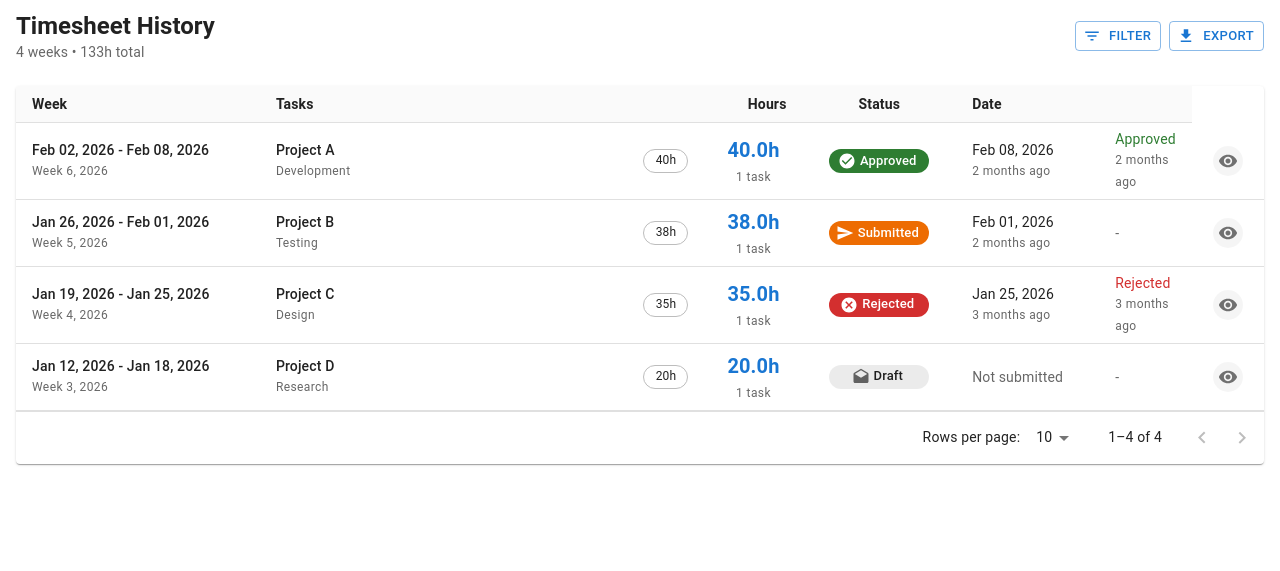
it: TimesheetHistory › Filter panel › status filter narrows displayed timesheets
The width and height of the screenshot is (1280, 571).
Open filter panel
Click the button with test id "ts-history-filter-toggle": (1118, 36) [1075, 21, 1161, 51]
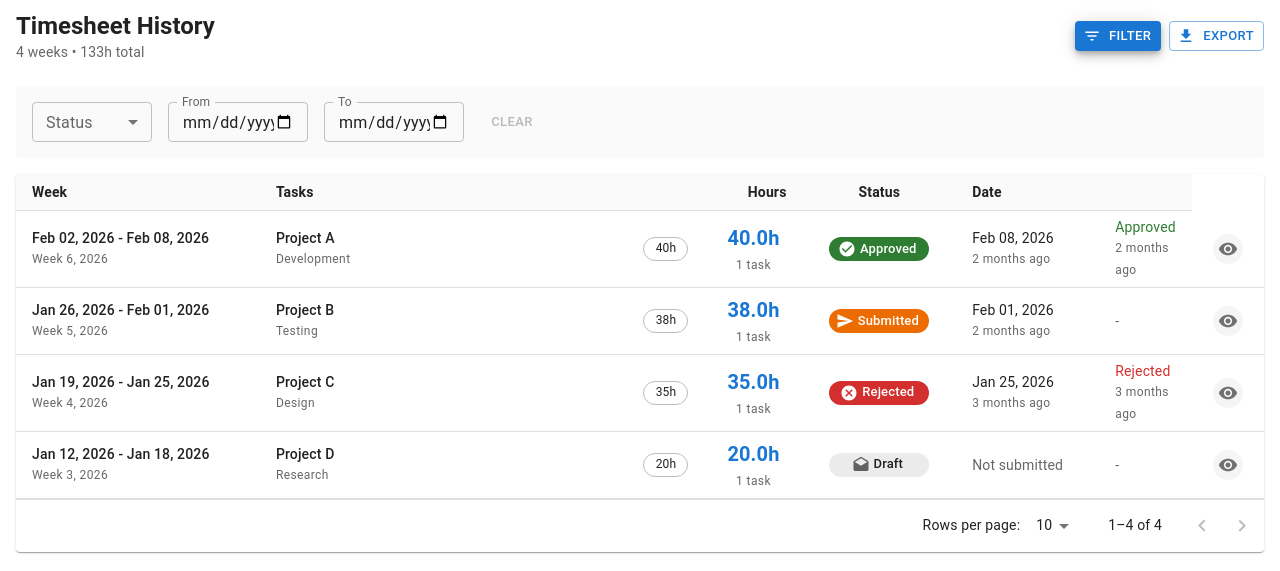
Now the element with test id "ts-history-status-select" is shown
Use MUI Select: click to open, then pick an option
Press the mouse on the 1st dropdown: (92, 122) [32, 102, 152, 142]
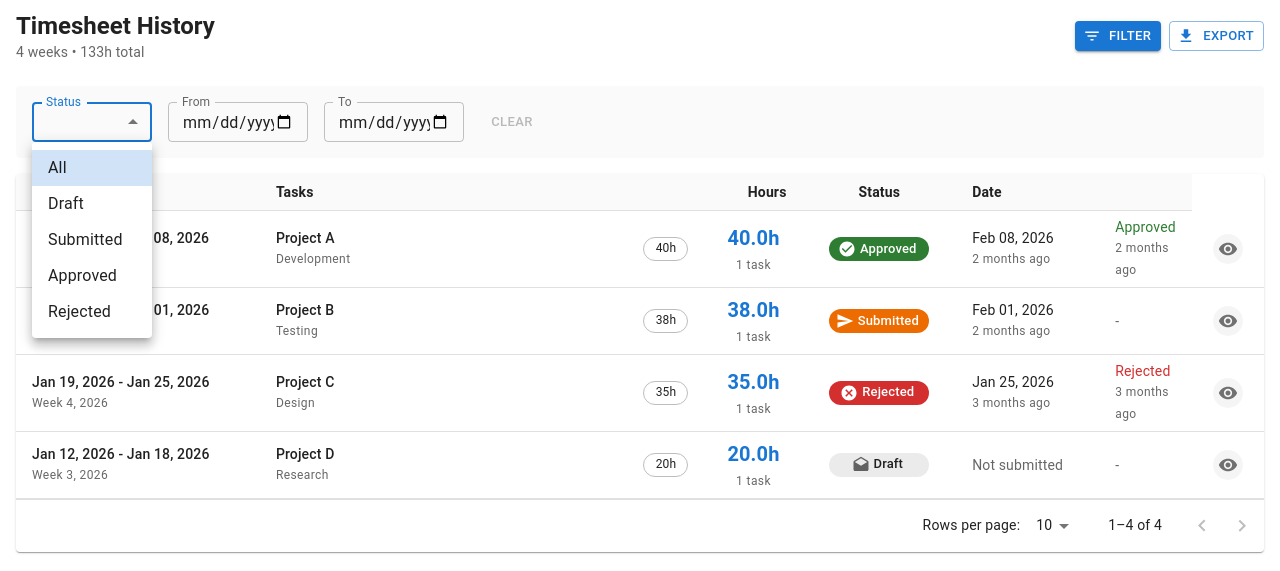
Now the list is shown, box [32, 142, 152, 338]
Select "Approved"
Click the option "Approved": (82, 276) [48, 266, 117, 285]
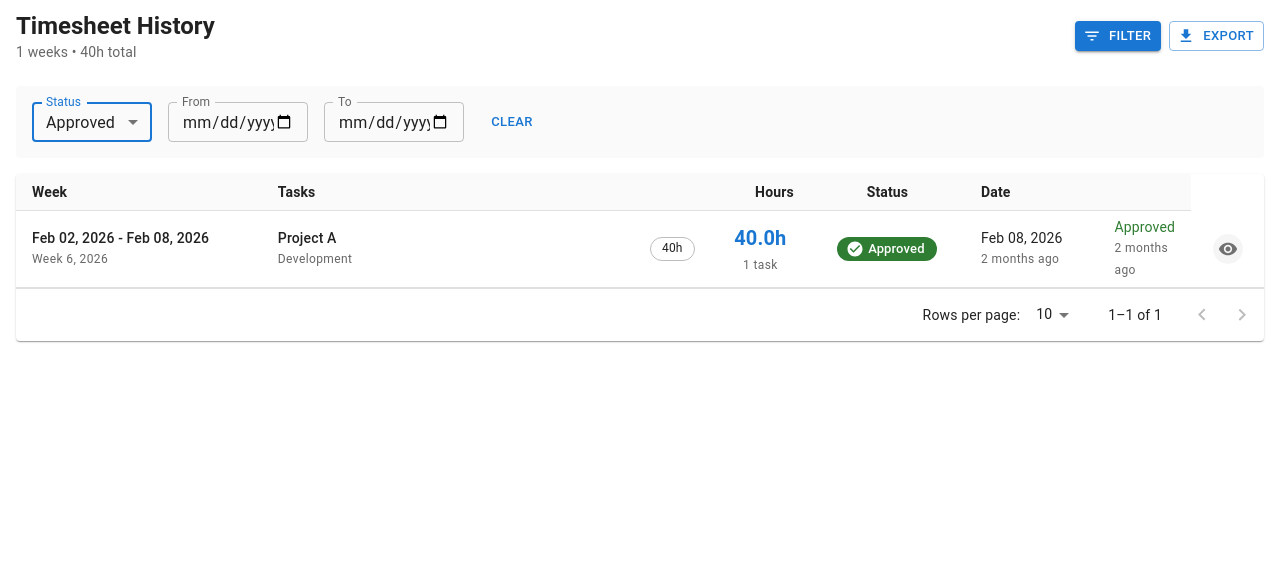
Now the text "1 weeks • 40h total" is shown, box [16, 44, 136, 60]
